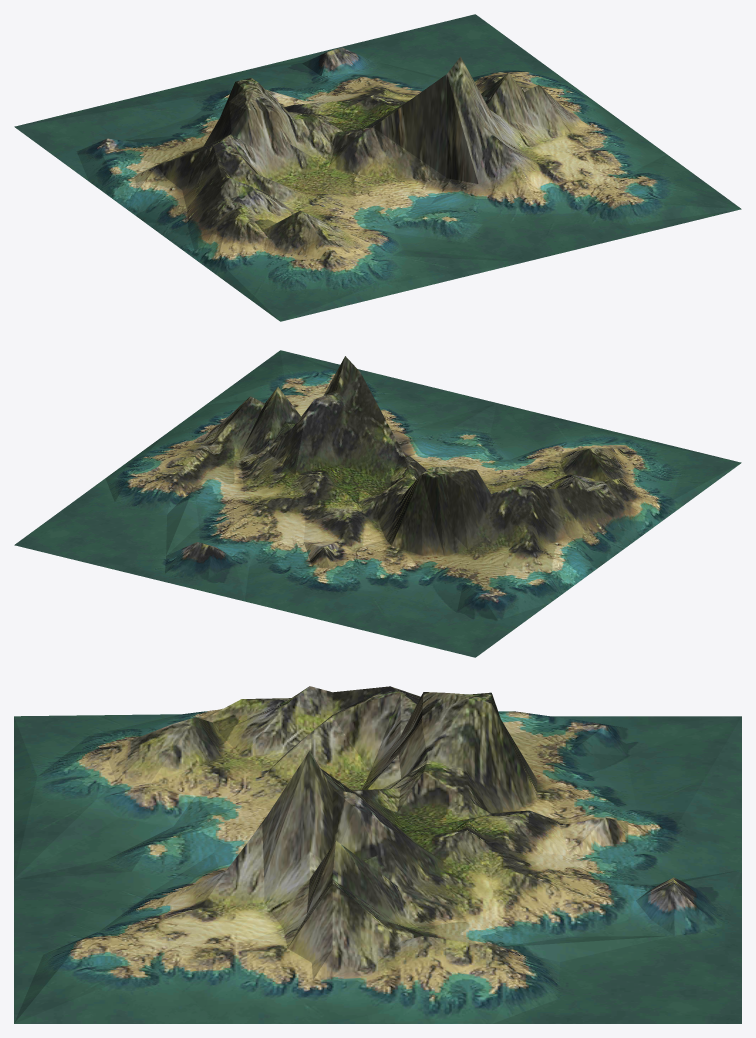
File: F_Island_06.fbx
The picture shows the model from 3 angles, top to bottom: view 1: azimuth 30°, elevation 25°; view 2: azimuth 150°, elevation 25°; view 3: azimuth 270°, elevation 25°; orthographic projection. The views are drawn at different scales.
Parts seen in each view (by area): view 1: F_Island_06; view 2: F_Island_06; view 3: F_Island_06.
Part boxes in pixels (x1,y1,x2,y2): F_Island_06: [14, 14, 741, 321]; F_Island_06: [14, 350, 741, 657]; F_Island_06: [14, 686, 741, 1023].
Bounding box in the file's own units: 6 × 1.44 × 6.
1 material, 1 textured.
